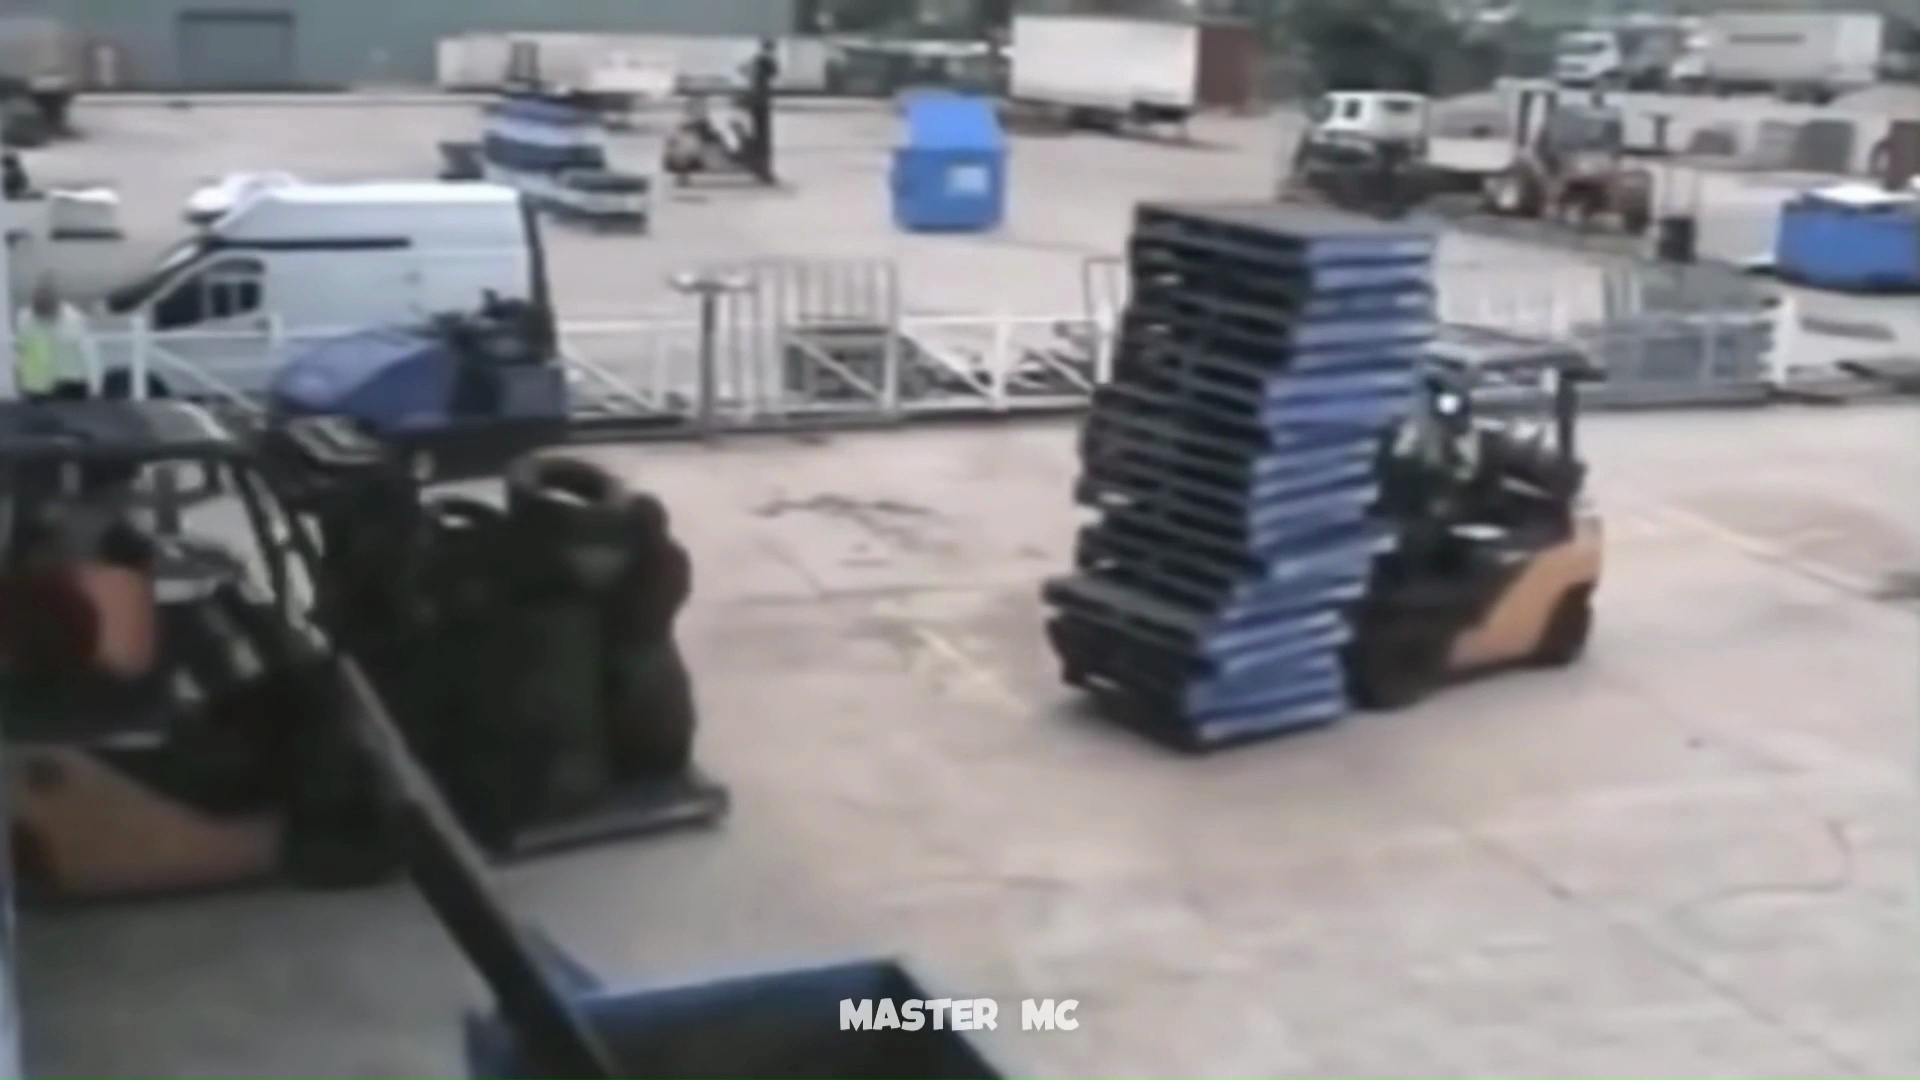forklift: (3, 396, 723, 882), (1030, 195, 1614, 760)
